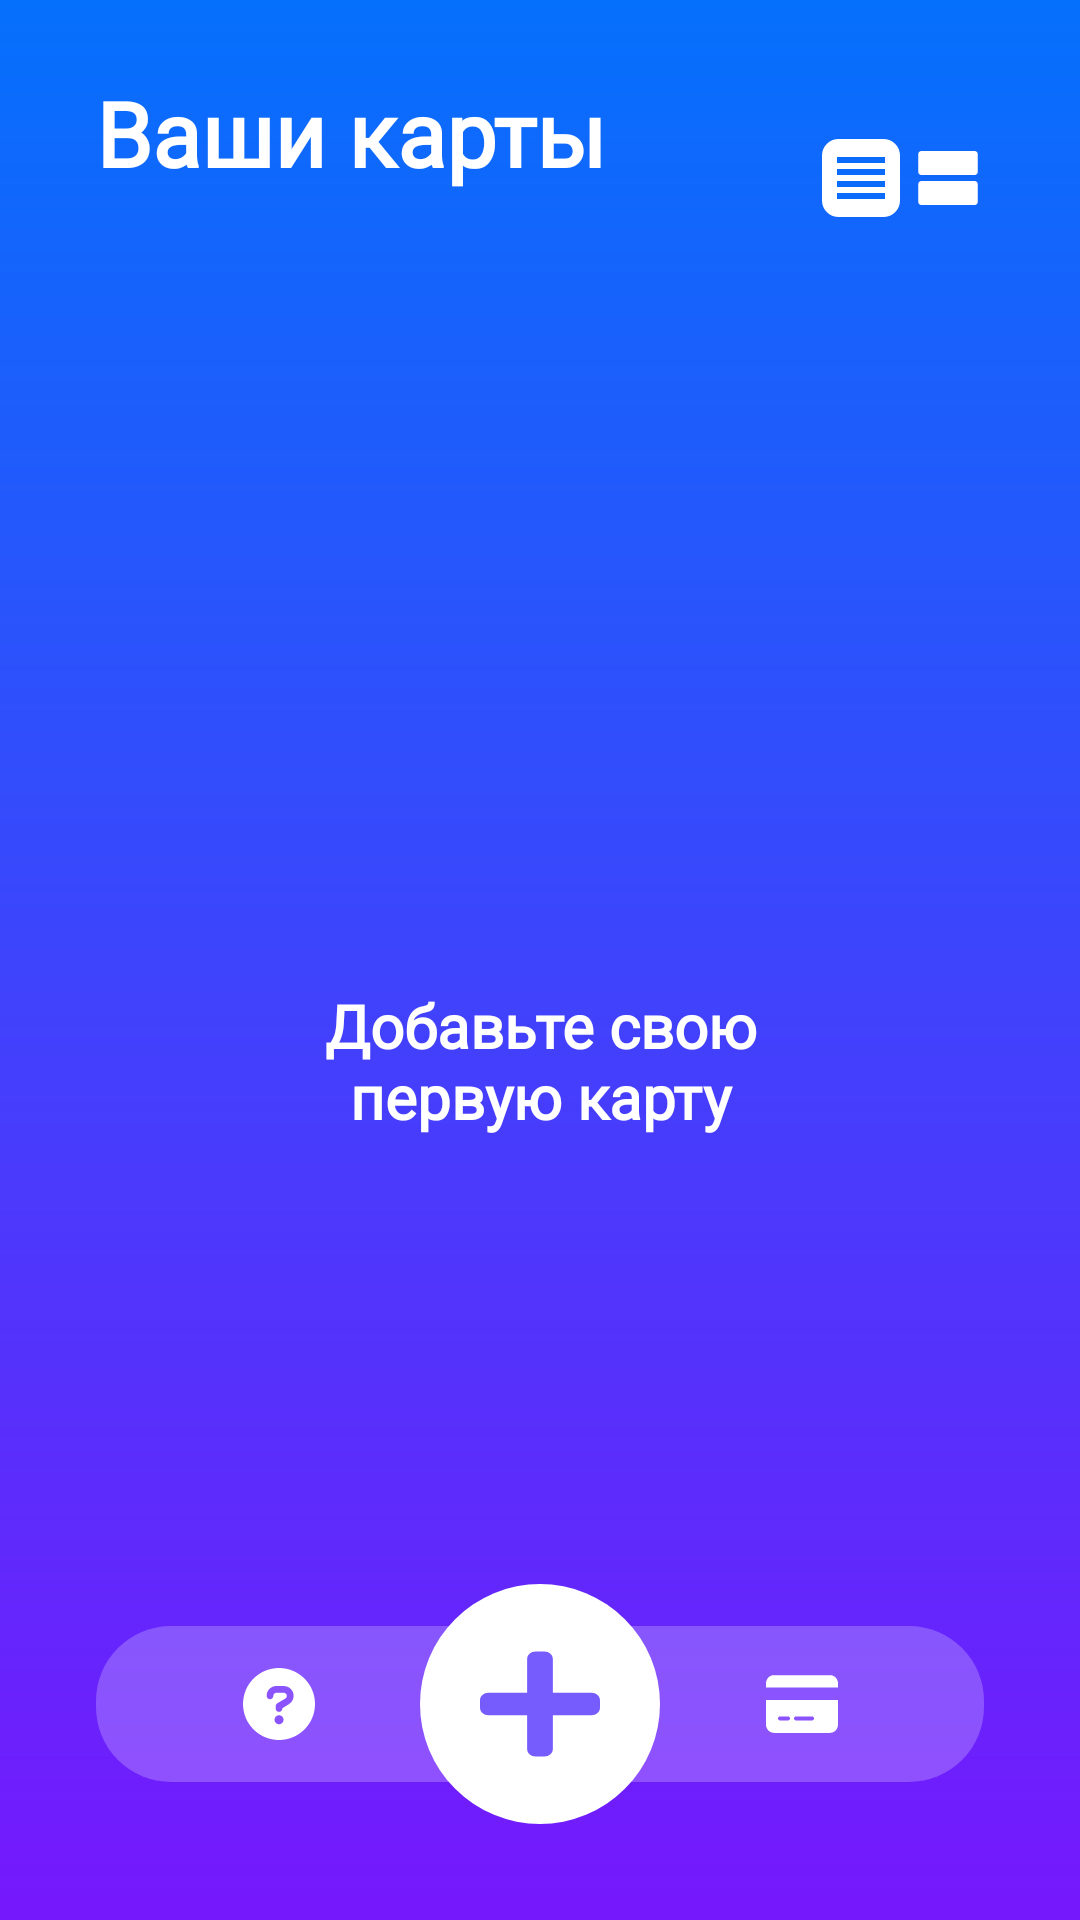

Icon bounding boxes for this 1080w x 1920h phone screenshot, format (x1, y1, x2, y2):
list: (822, 139, 900, 217)
